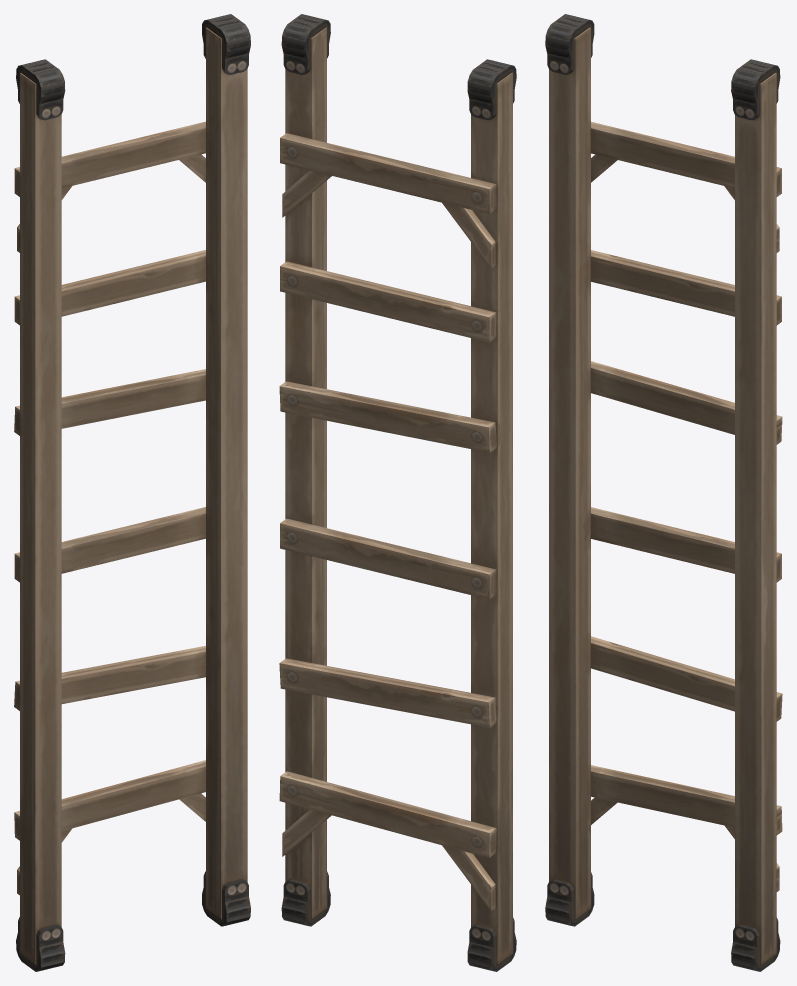
Rendered from P_WoodLadder_001_S1_M01.obj.
The picture shows the model from 3 angles, left to right: view 1: azimuth 30°, elevation 25°; view 2: azimuth 150°, elevation 25°; view 3: azimuth 330°, elevation 25°; orthographic projection.
Bounding box in the file's own units: 1 × 4.04 × 0.2191.
Materials: 1 (1 with a texture image).
